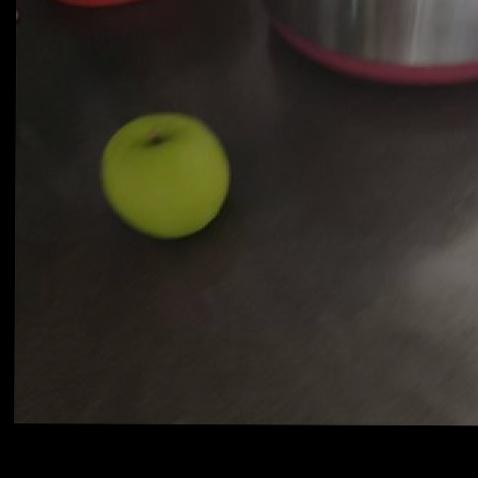green apple: (99, 110, 235, 242)
